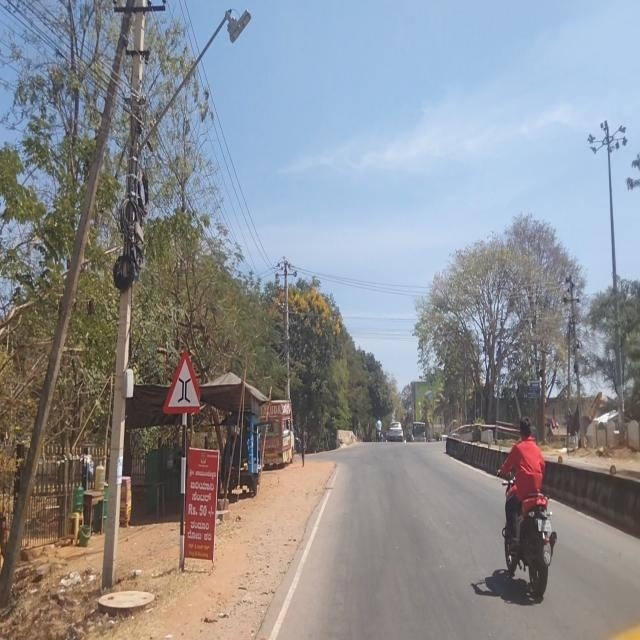bien_nguy_hiem: (162, 348, 202, 416)
